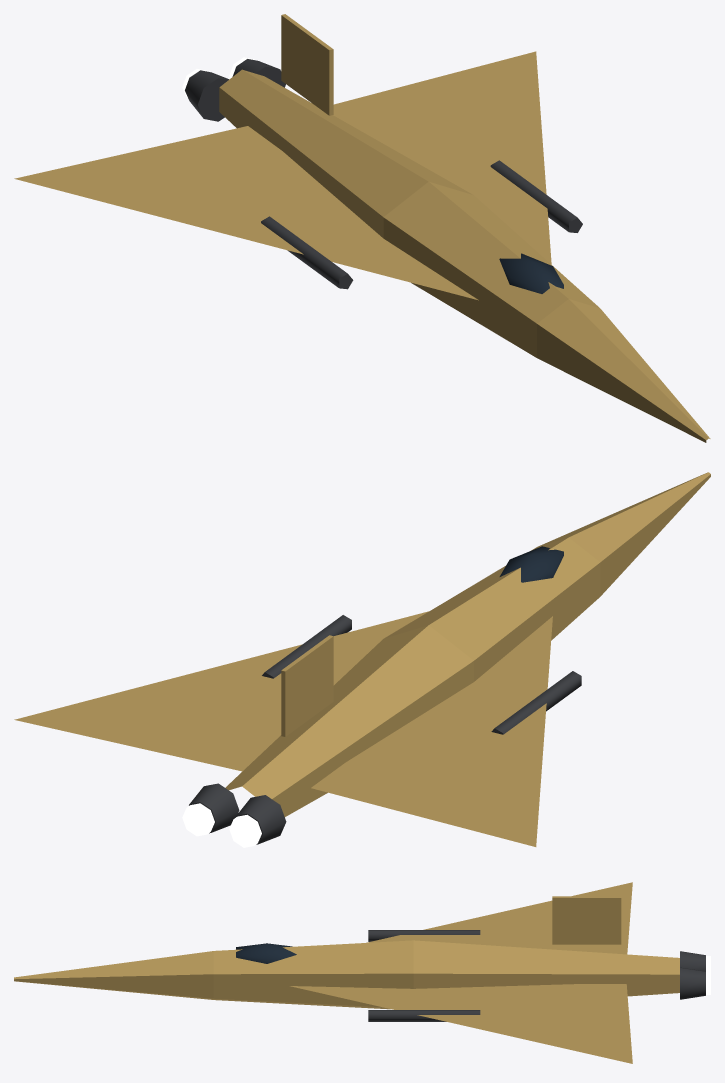
Rendered from space_ship_interceptor_mk7.glb.
3 renders of one model, top to bottom at view 1: azimuth 30°, elevation 25°; view 2: azimuth 150°, elevation 25°; view 3: azimuth 270°, elevation 25°, orthographic. The views are drawn at different scales.
Parts seen in each view (by area): view 1: body, gun_r, engine_0, gun_l, engine_1; view 2: body, engine_0, engine_1, gun_r, gun_l; view 3: body, gun_l, engine_1, gun_r, engine_0.
Boxes of the visible parts, left/top/right/bottom form: body: left=14, top=14, right=710, bottom=442; gun_r: left=261, top=216, right=353, bottom=289; engine_0: left=182, top=69, right=228, bottom=121; gun_l: left=490, top=160, right=582, bottom=232; engine_1: left=229, top=57, right=285, bottom=87; body: left=14, top=472, right=710, bottom=846; engine_0: left=229, top=795, right=286, bottom=847; engine_1: left=182, top=783, right=239, bottom=836; gun_r: left=491, top=671, right=581, bottom=734; gun_l: left=262, top=615, right=351, bottom=678; body: left=14, top=882, right=679, bottom=1063; gun_l: left=368, top=1010, right=480, bottom=1021; engine_1: left=680, top=967, right=710, bottom=999; gun_r: left=368, top=930, right=480, bottom=941; engine_0: left=680, top=951, right=710, bottom=972.
Size of what is drawn, in the model's own units: 10 by 2.91 by 16.2.
